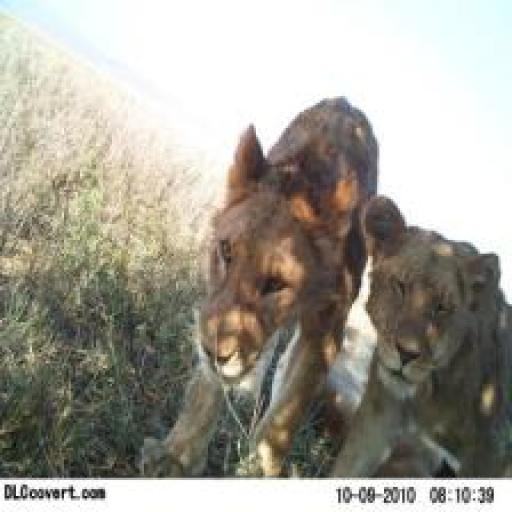lion: (167, 66, 369, 478), (368, 190, 511, 490)
